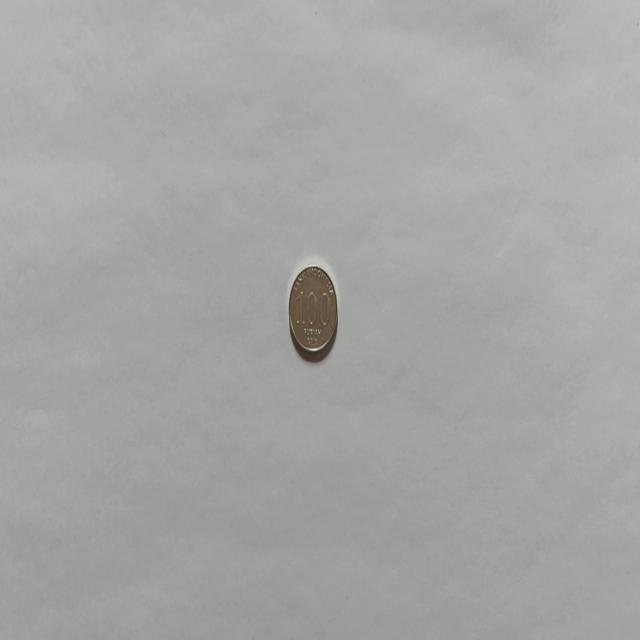seratus rupiah: (287, 263, 338, 360)
